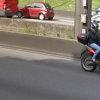Motorcycle: (67, 16, 100, 74)
